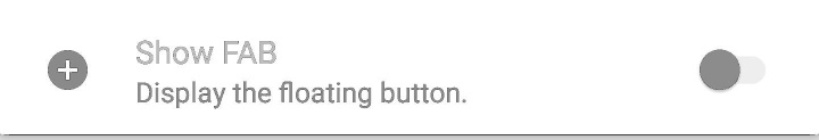CheckedTextView: (1, 1, 818, 139)
